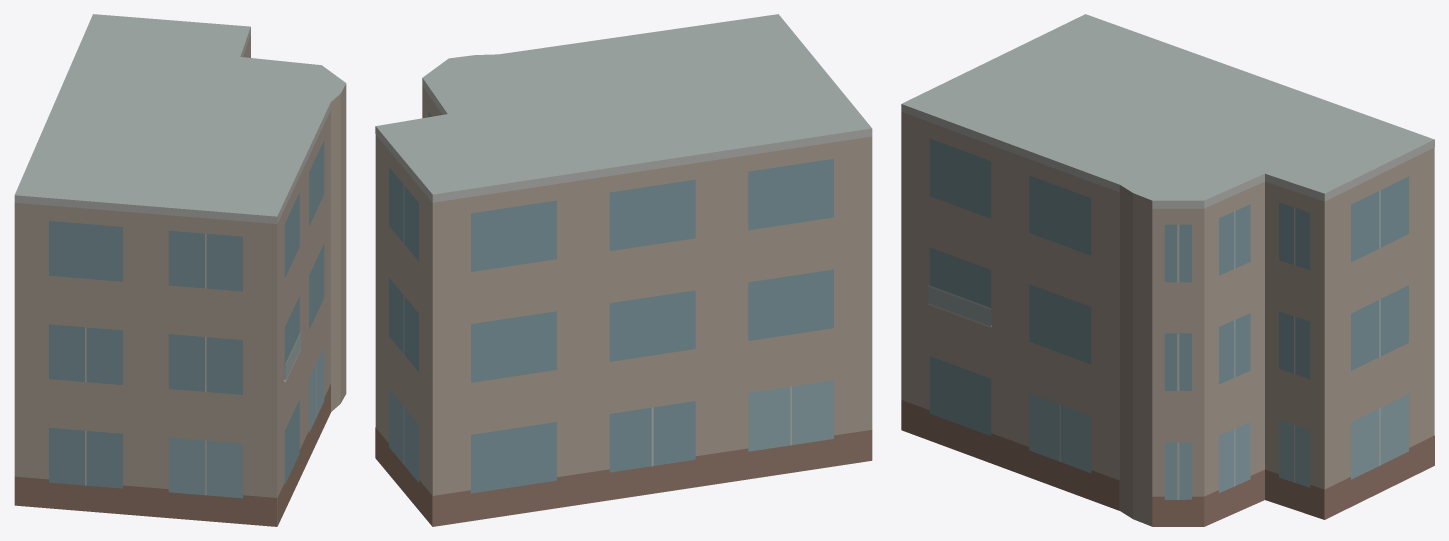
Rendered from survey-upis-32666090.glb.
3 renders of one model, left to right at view 1: azimuth 30°, elevation 25°; view 2: azimuth 150°, elevation 25°; view 3: azimuth 270°, elevation 25°, orthographic. The views are drawn at different scales.
Parts seen in each view (by area): view 1: survey-upis-32666090.tmp; view 2: survey-upis-32666090.tmp; view 3: survey-upis-32666090.tmp.
Boxes of the visible parts, box(x1,y1,x2,y2) form: survey-upis-32666090.tmp: box(14, 14, 346, 526); survey-upis-32666090.tmp: box(375, 14, 872, 526); survey-upis-32666090.tmp: box(901, 14, 1434, 526).
Size of the model in its own units: 12.41 by 10.1 by 14.98.
